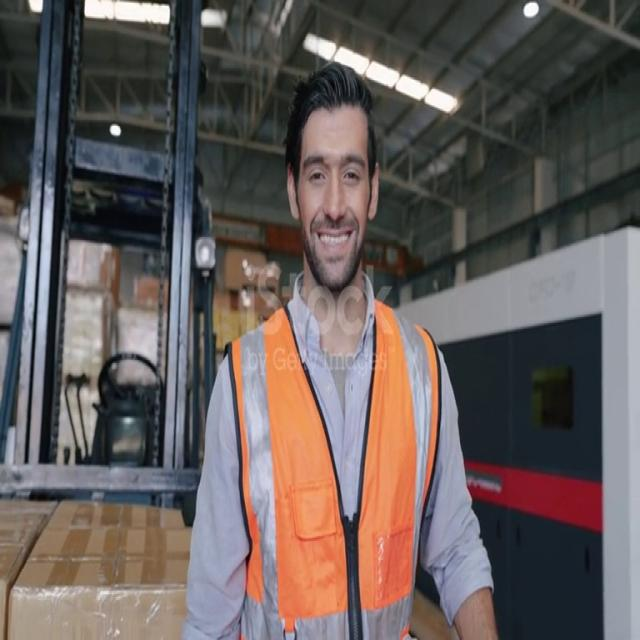sem_capacete: (276, 45, 389, 317)
